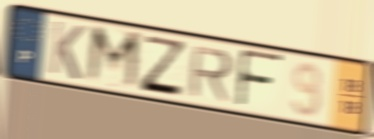9: (290, 59, 327, 119)
F: (234, 46, 285, 112)
K: (46, 18, 87, 83)
M: (82, 22, 144, 95)
R: (186, 43, 236, 104)
Z: (138, 33, 188, 99)
